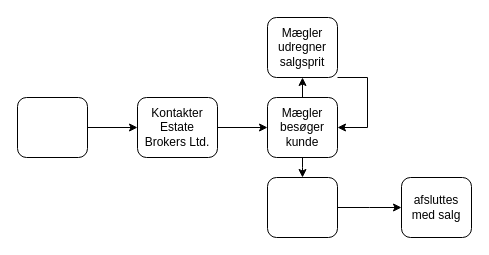
Some shapes in this 489 by 255 pixel diagram are drawn without their labels. The centre of each missing label's shape, as x and y in pixels:
Hus sættes til salg: the point at 302,207
Kunde: the point at 52,127
